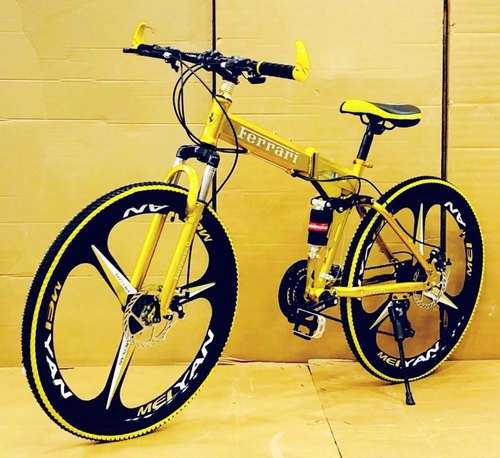cycle: (17, 26, 487, 444)
